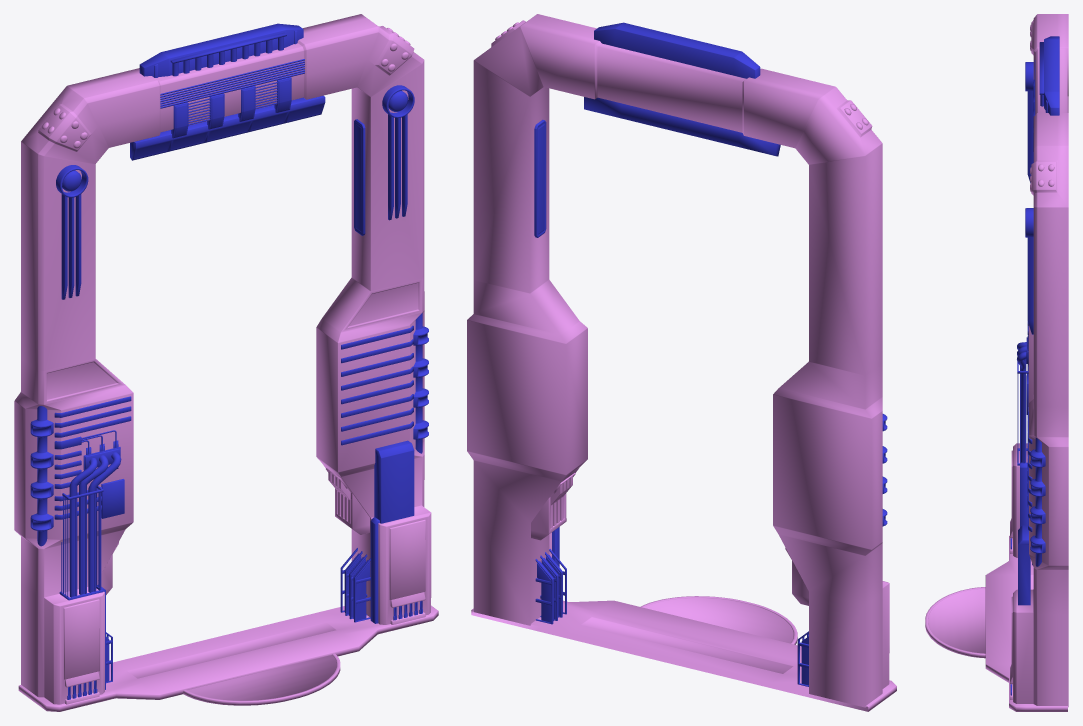
The model's file is Door01_Frame01.FBX.
3 views of the same model, side by side, from view 1: azimuth 30°, elevation 25°; view 2: azimuth 150°, elevation 25°; view 3: azimuth 270°, elevation 25° (orthographic). The views are drawn at different scales.
Visible parts, largest first — view 1: SM_Door01_Frame01; view 2: SM_Door01_Frame01; view 3: SM_Door01_Frame01.
Part boxes in pixels (bbox=[...]): SM_Door01_Frame01: bbox=[14, 14, 438, 711]; SM_Door01_Frame01: bbox=[467, 14, 896, 711]; SM_Door01_Frame01: bbox=[925, 14, 1068, 711].
Size of the model in its own units: 204 by 297 by 69.
